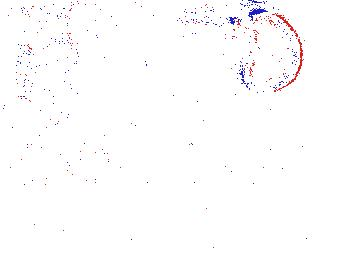moon jellyfish: (226, 10, 304, 95), (115, 55, 201, 128), (144, 20, 238, 82), (10, 22, 82, 100)
